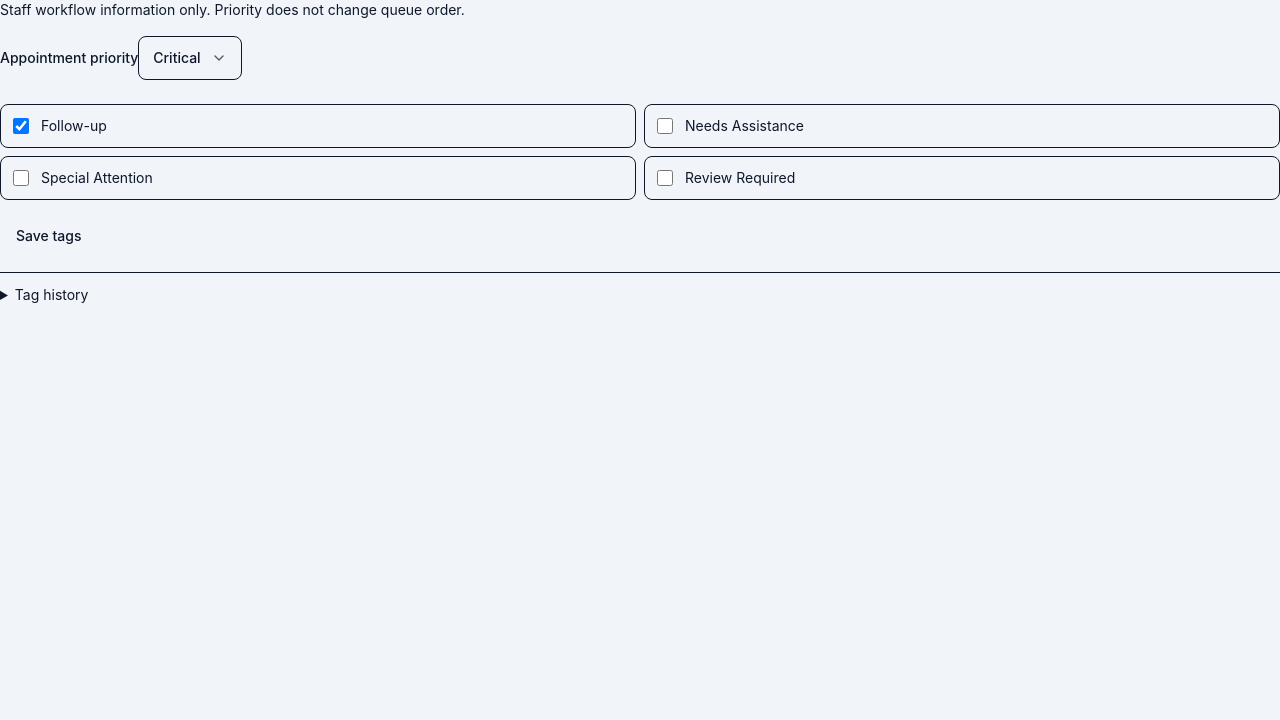
Test: loads appointment-specific saved tags, edits them and shows audit history
Expected: the checkbox labelled "Follow-up" is checked, [13,118,29,134]
Press ArrowDown in the dropdown named "Appointment priority", box [138,36,242,80]
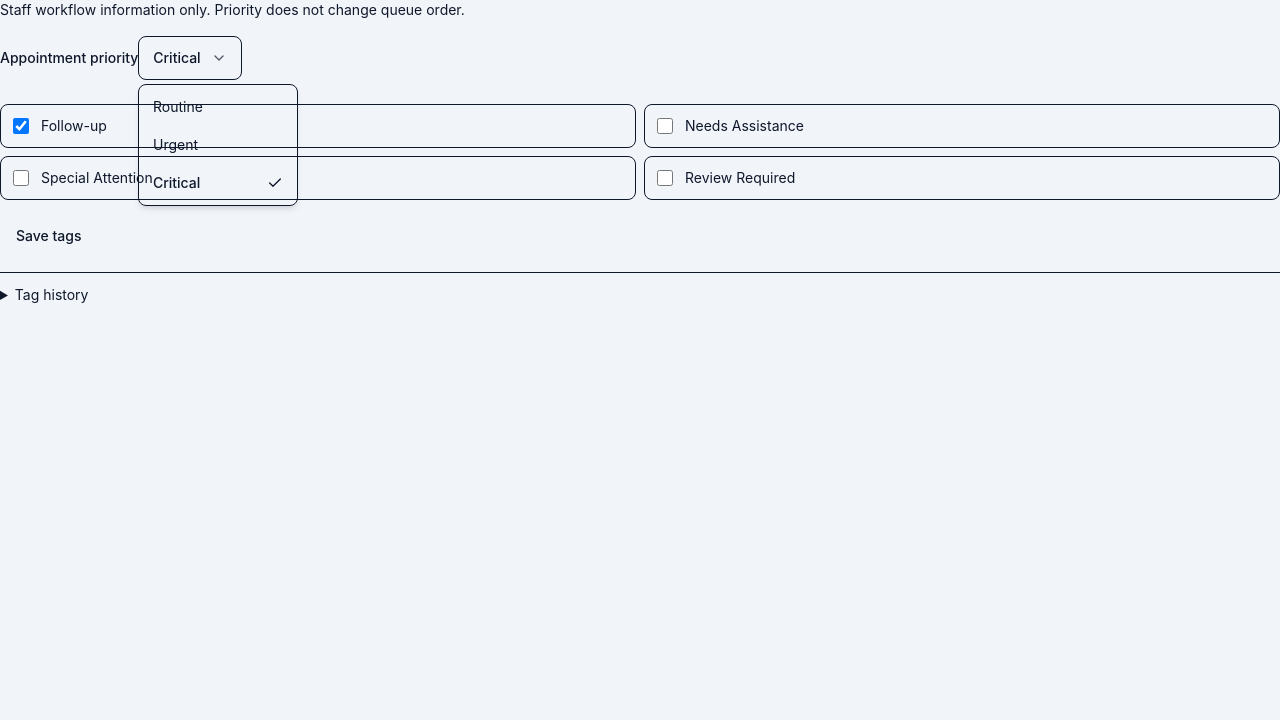
Click the option "Urgent" at (218, 145), box [143,127,293,163]
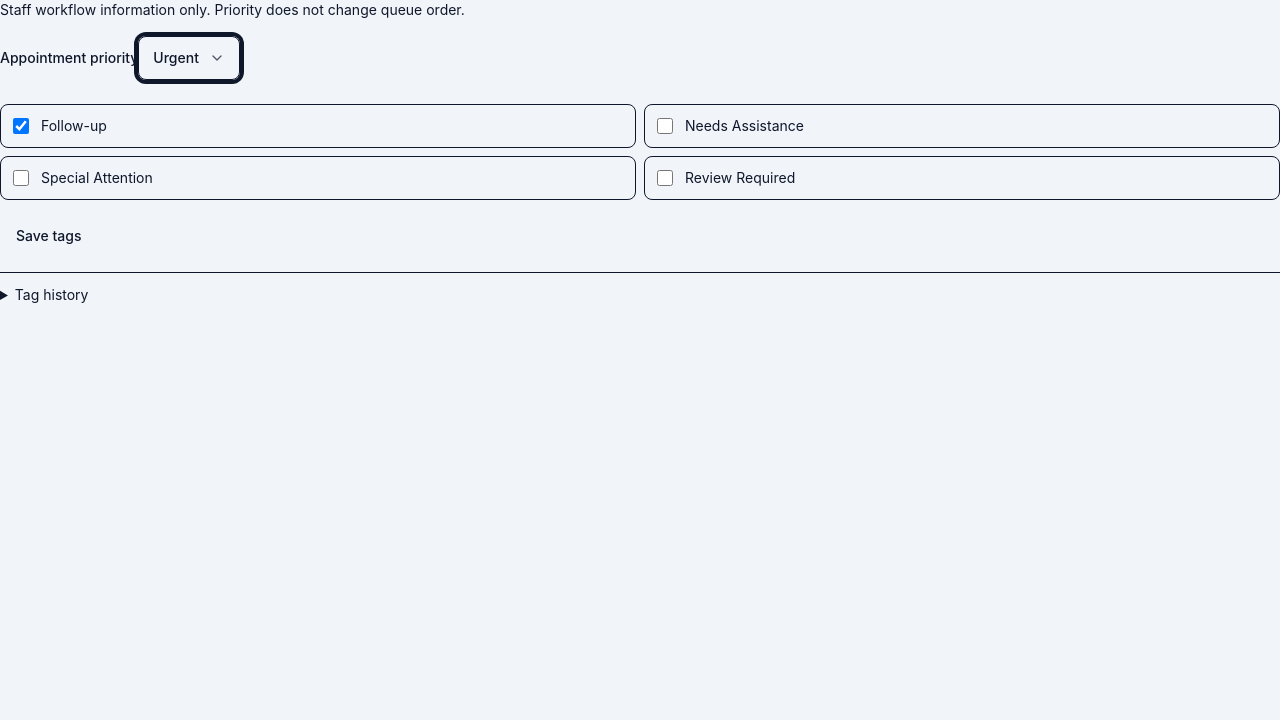
Click the checkbox labelled "Follow-up" at (21, 126), box [13,118,29,134]
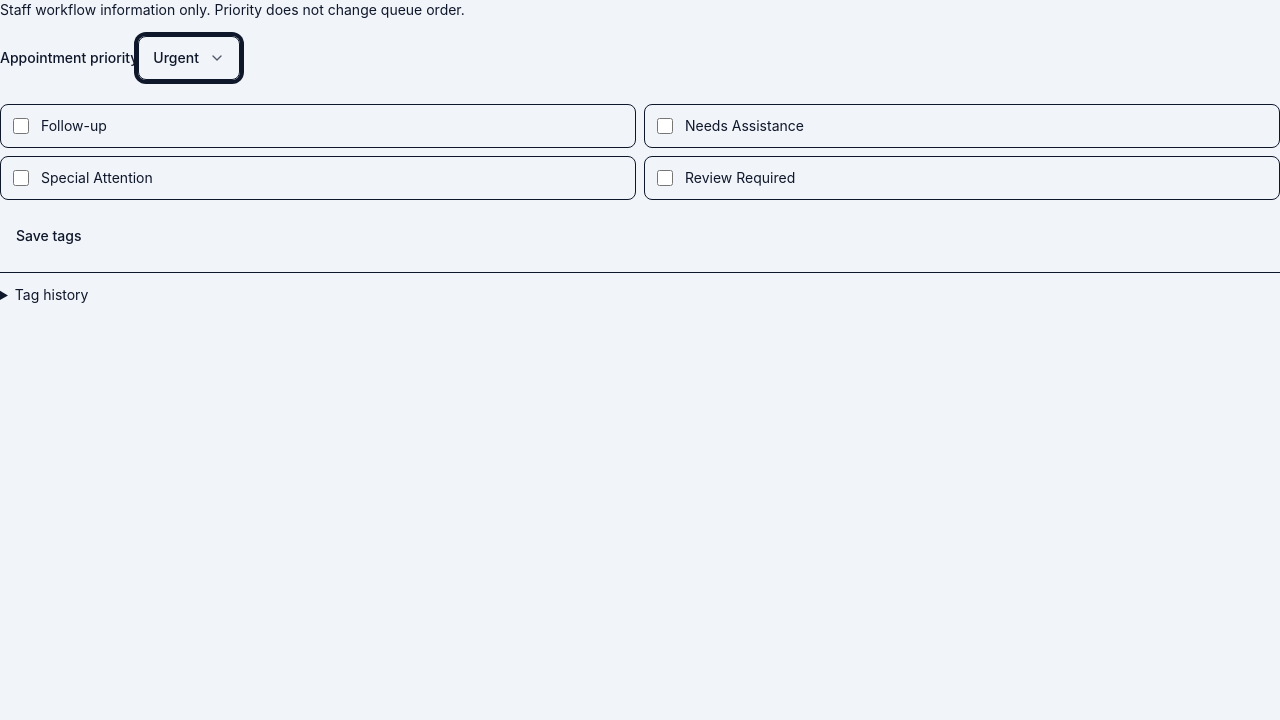
Click the checkbox labelled "Review Required" at (665, 178), box [657,170,673,186]
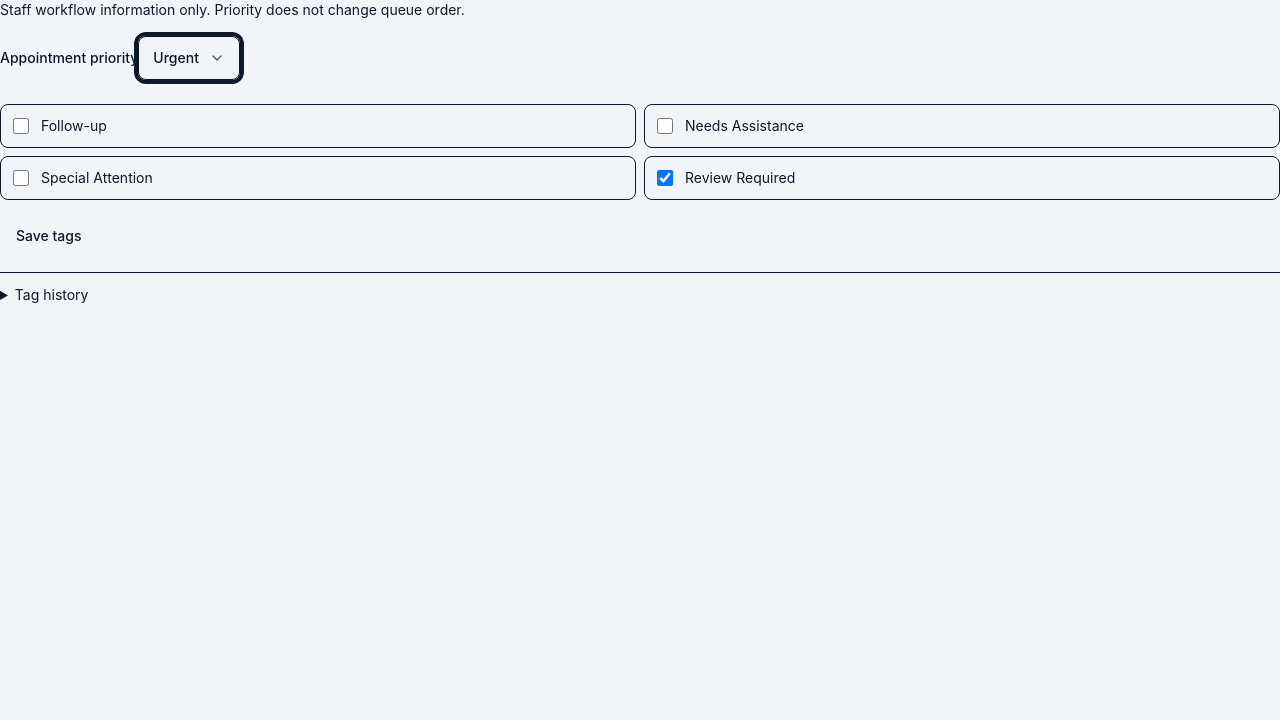
Click the button "Save tags" at (49, 236), box [0,216,98,256]
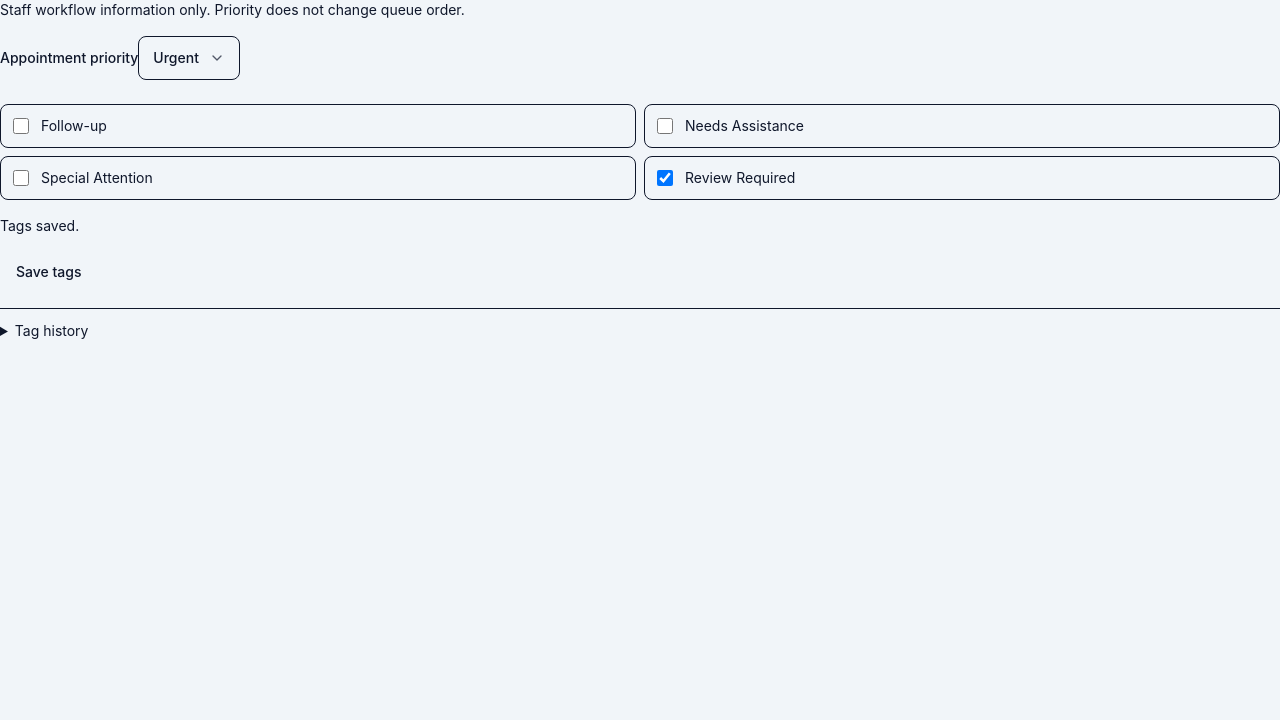
Expected: the message shows "Tags saved", [0,217,79,234]
